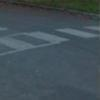crosswalks: (0, 22, 99, 56)
